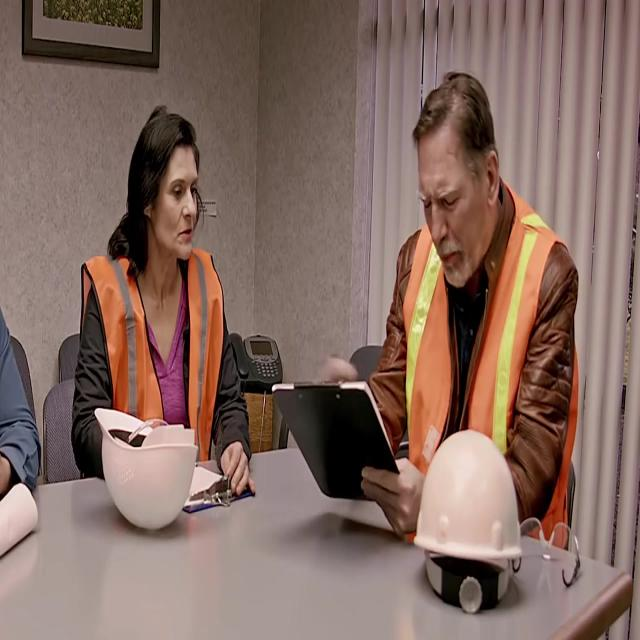Reflective-Jacket: (391, 200, 583, 500), (75, 239, 234, 464)
Safety-Helmet: (405, 428, 536, 583), (84, 395, 208, 538)
